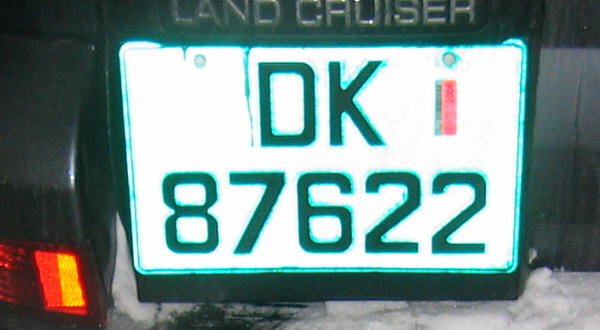license_plate: (120, 42, 528, 275)
